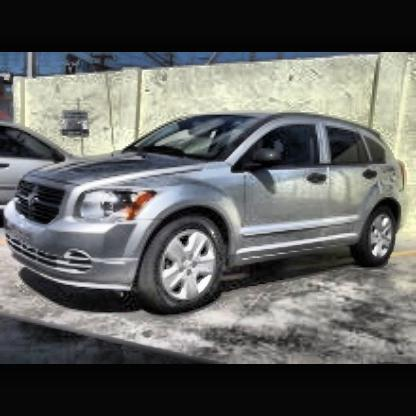Dodge Caliber Wagon 2012: (7, 110, 411, 319)
